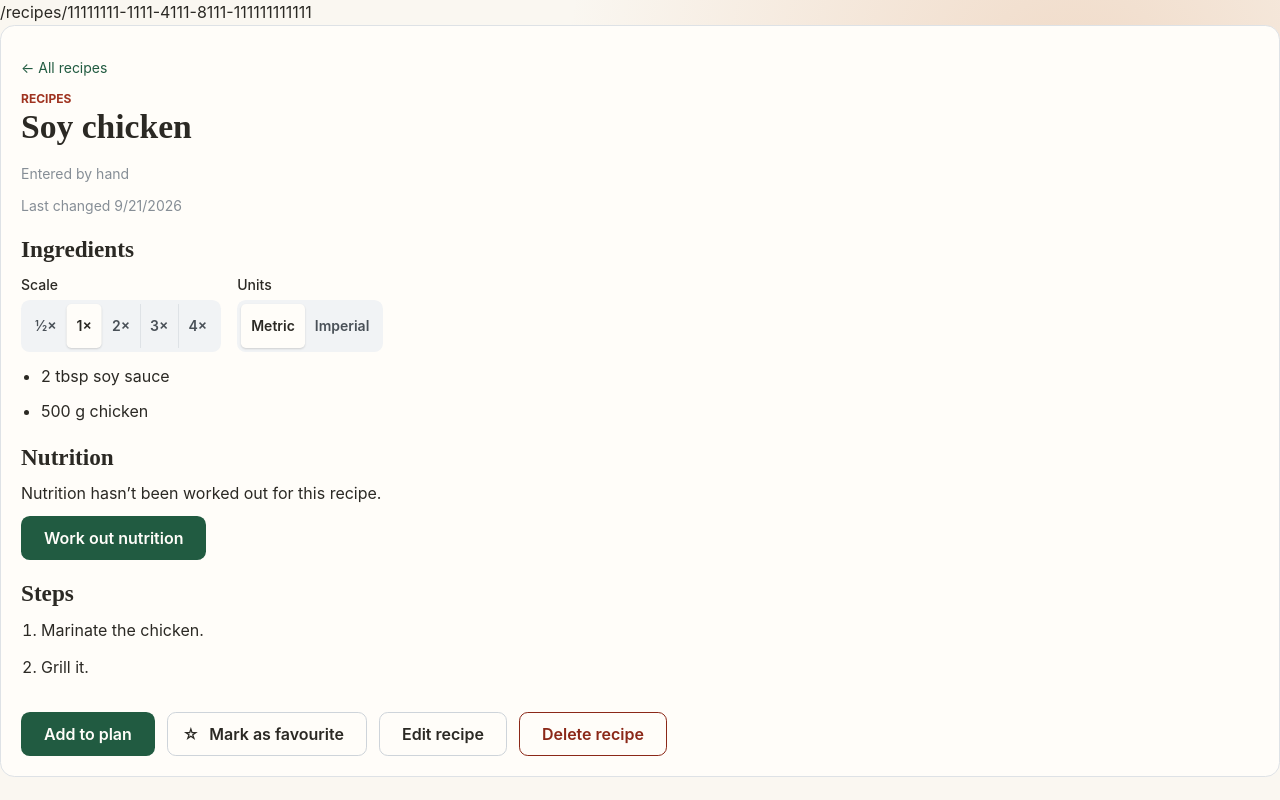
Recipe nutrition › checking the matches › shows the unavailable path and retries without saving
Click the button "Work out nutrition": (114, 538) [21, 516, 206, 560]
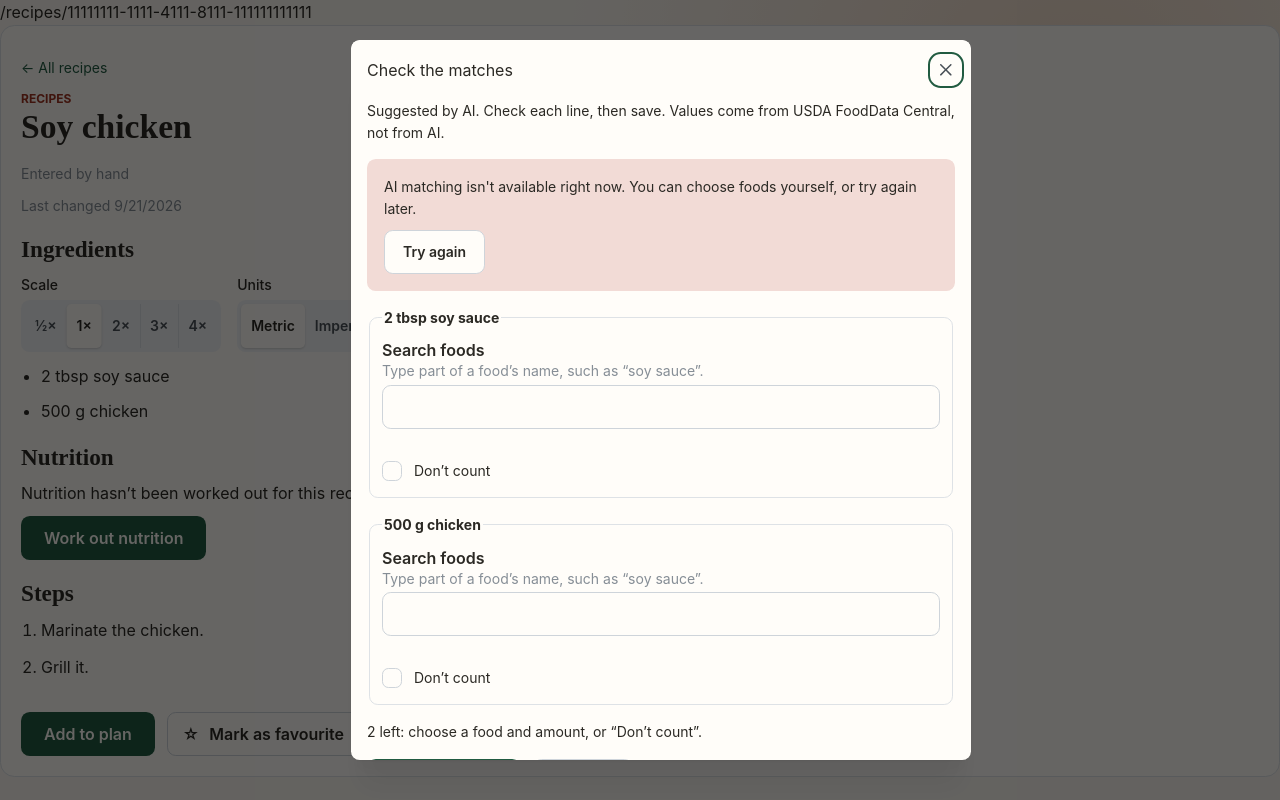
Result: the message with test id "nutrition-ai-unavailable" shows "AI matching isn't available right now. You can choose foods yourself, or try again later." at [384, 178, 917, 217]
Click the 2nd checkbox labelled "Don’t count": (392, 678) [382, 668, 402, 688]
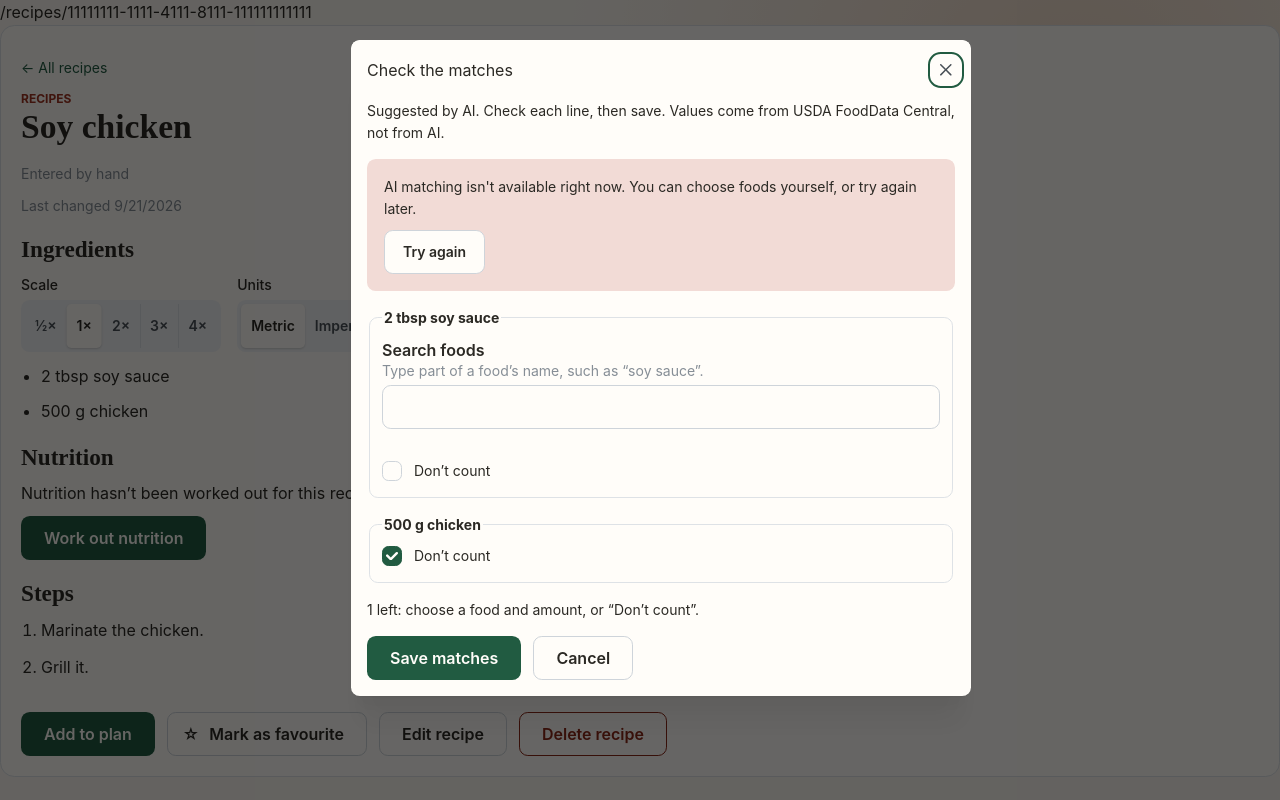
Click the button "Try again": (435, 252) [384, 230, 485, 274]
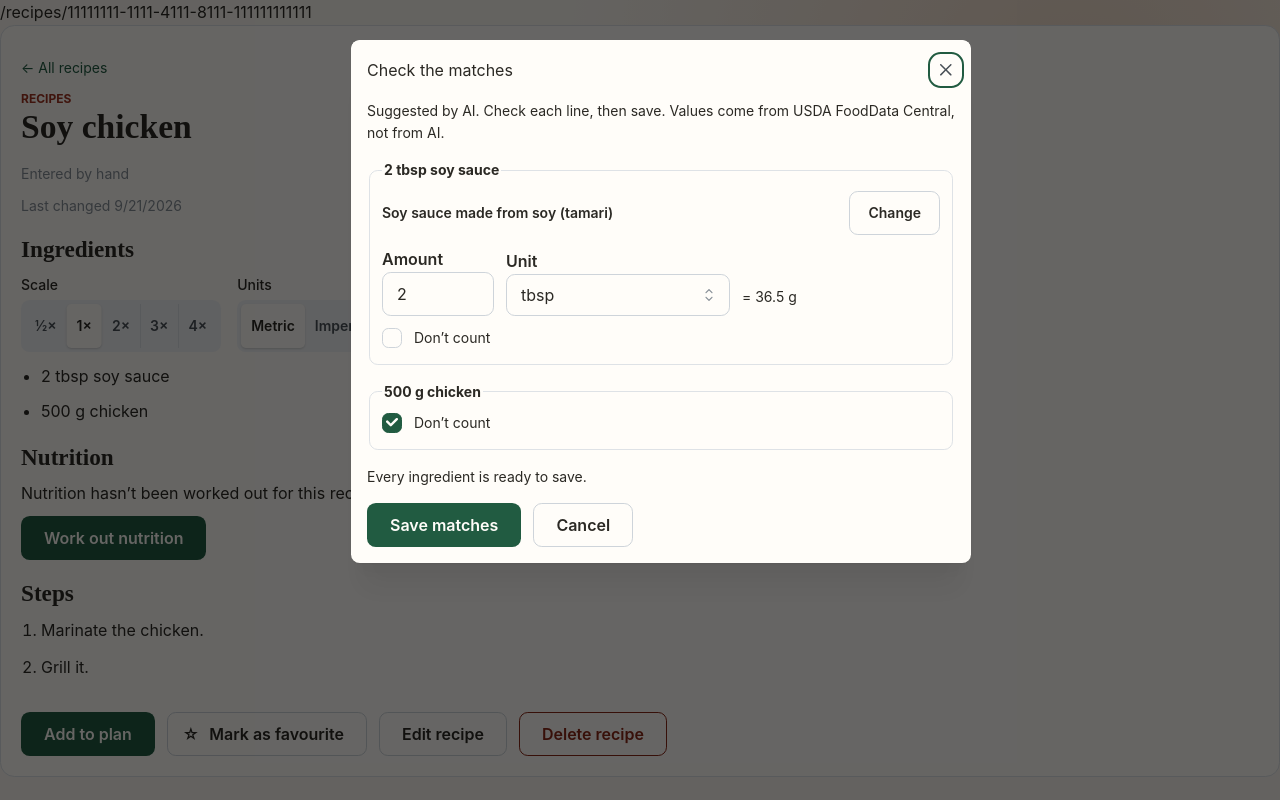
Result: the 2nd checkbox labelled "Don’t count" is checked at [382, 412, 402, 432]
Result: the text "Soy sauce made from soy (tamari)" is shown at [382, 202, 613, 224]
Result: the message with test id "nutrition-ai-unavailable" is gone
